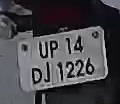1: (56, 62, 68, 84), (65, 37, 74, 57)
2: (65, 58, 76, 80), (74, 59, 85, 79)
4: (71, 35, 87, 54)
6: (85, 57, 96, 76)
D: (28, 63, 43, 85)
J: (43, 64, 54, 82)
P: (47, 39, 60, 60)
U: (37, 41, 50, 59)
